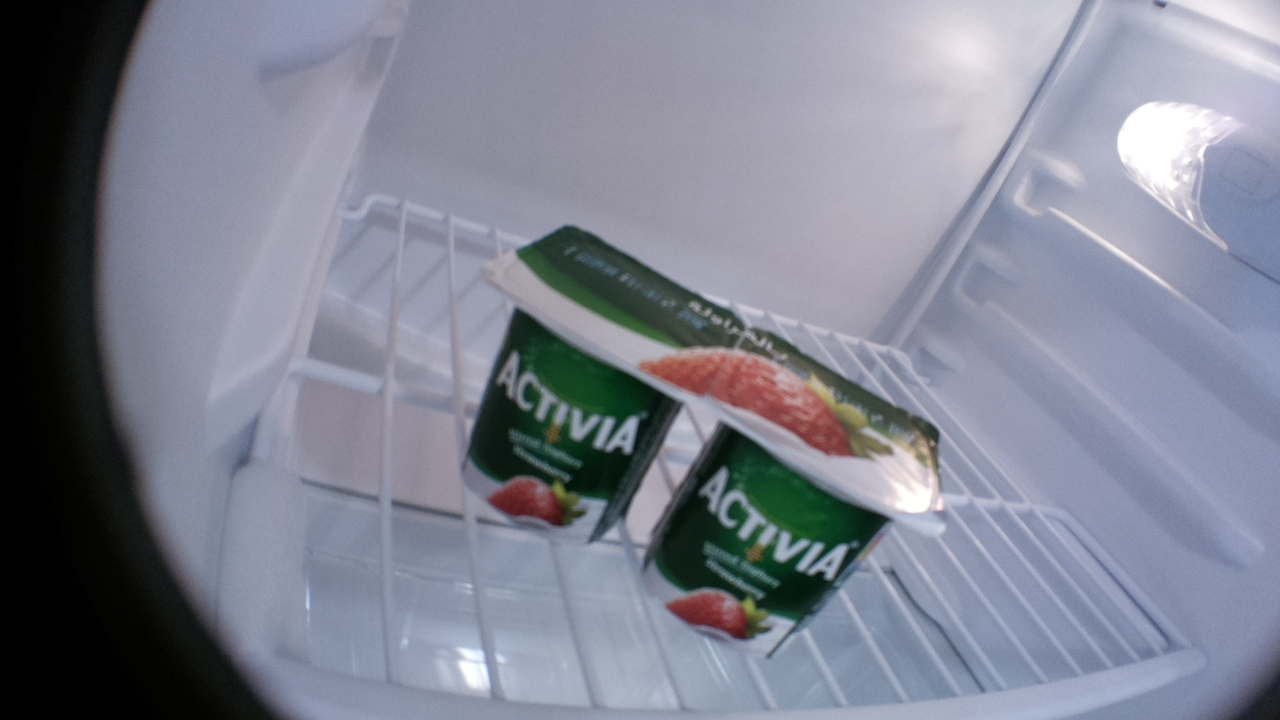yoghurt: (641, 328, 949, 660), (461, 224, 712, 550)
